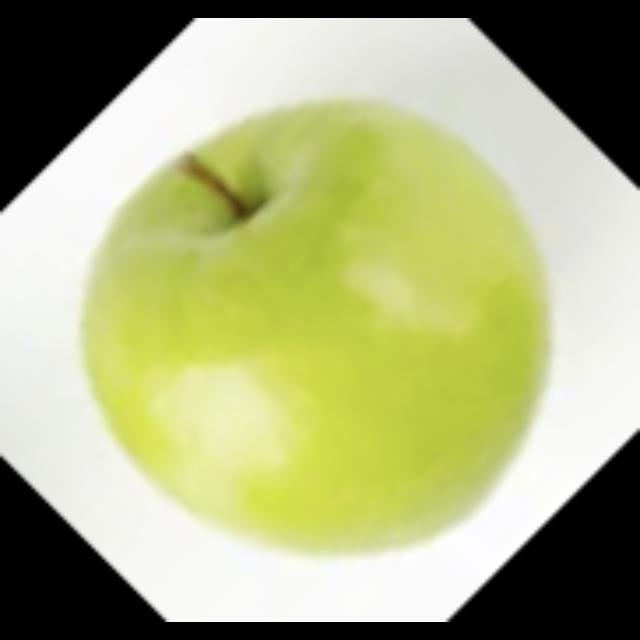Apel Segar: (84, 104, 556, 556)
